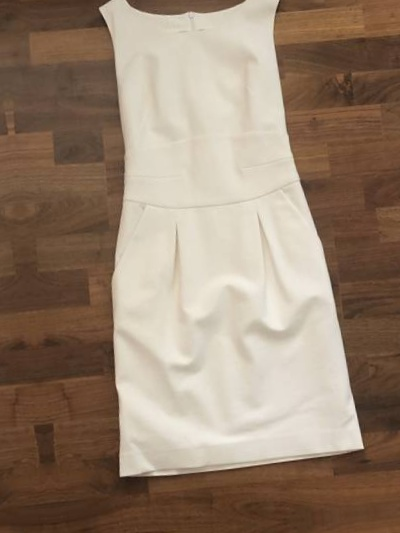Dress: (52, 0, 384, 499)
